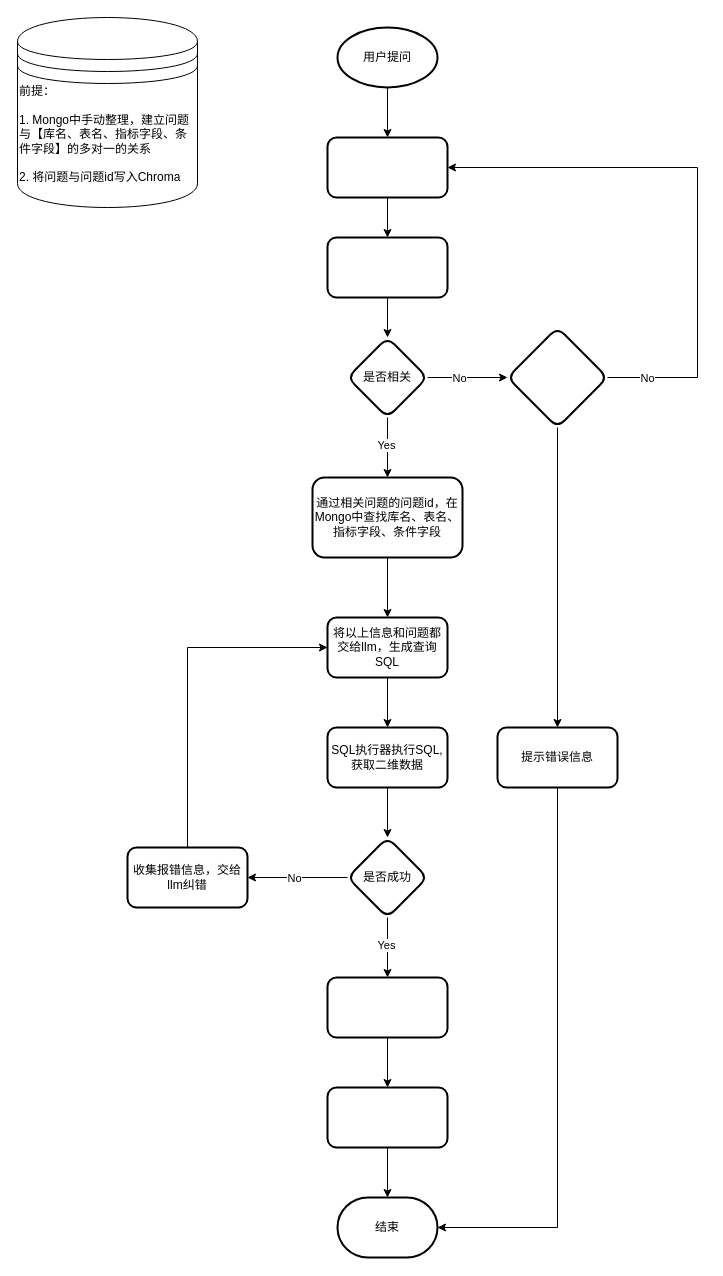
Image size: 723x1276. Some labels were removed from this diagram. The centre of each missing label's shape, as x and y in pixels:
"Chroma中搜索 相关问题" belongs at [387,167].
"llm判断搜索结果是否与用户提问相关" belongs at [387,267].
"llm根据返回数据， 总结结论" belongs at [387,1117].
"llm生成绘制报表需要的参数，生成数据报表" belongs at [387,1007].
"是否达 最大重试次数" belongs at [557,377].
